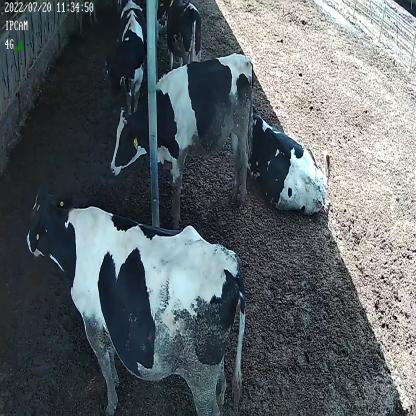cow: (25, 178, 247, 415), (112, 52, 255, 226), (250, 106, 329, 217), (104, 0, 146, 109), (165, 0, 203, 70)
